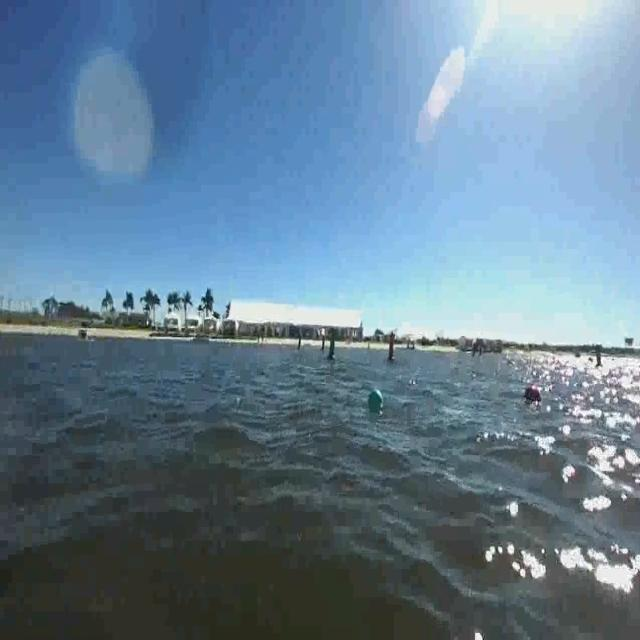black-buoy: (524, 381, 542, 405)
green-buoy: (367, 392, 382, 413)
green-column-buoy: (326, 331, 337, 362)
red-column-buoy: (385, 329, 396, 362)
